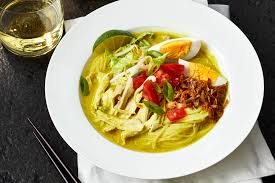soto: (75, 14, 257, 156)
